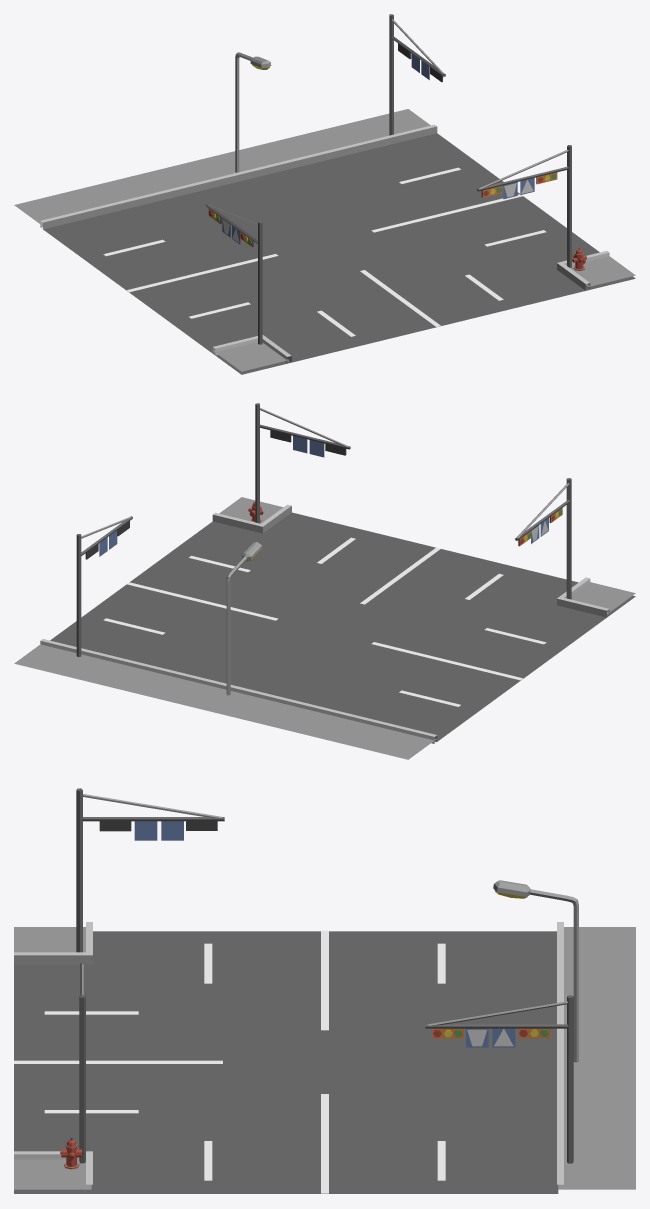
The model's file is road_tile_2x2_002.fbx.
3 views of the same model, one above another, from view 1: azimuth 30°, elevation 25°; view 2: azimuth 150°, elevation 25°; view 3: azimuth 270°, elevation 25° (orthographic). The views are drawn at different scales.
Visible parts, largest first — view 1: road_tile_2x2_002; view 2: road_tile_2x2_002; view 3: road_tile_2x2_002.
Boxes of the visible parts, x1,y1,x2,y2 form: road_tile_2x2_002: [14, 14, 635, 374]; road_tile_2x2_002: [14, 403, 635, 759]; road_tile_2x2_002: [14, 788, 635, 1193].
Size of the model in its own units: 1600 by 525 by 1600.
